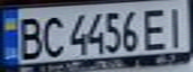4: (84, 9, 109, 55), (66, 10, 90, 55)
5: (103, 8, 124, 54)
6: (121, 7, 145, 53)
B: (12, 13, 45, 60)
C: (36, 12, 66, 59)
E: (139, 3, 172, 51)
I: (163, 2, 193, 48)
